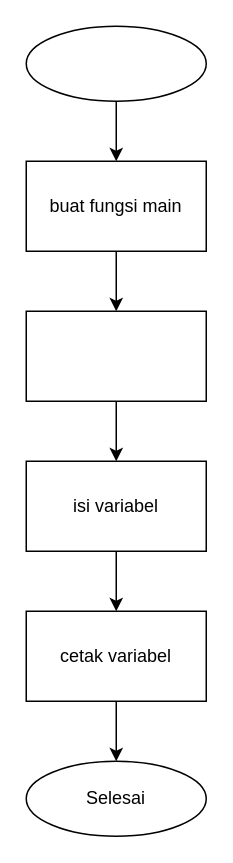
This 233x863 diagram has some shape labels left out. Here are the shapes that lost their labels. From the top down, the centre of each, then its label:
pixel 115 63: MULAI
pixel 115 355: buat variable bertipe string
